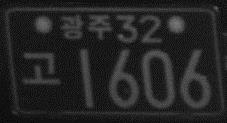0: (140, 49, 175, 108)
1: (77, 46, 97, 110)
2: (139, 13, 162, 44)
3: (115, 13, 138, 42)
6: (178, 48, 212, 110), (106, 48, 140, 109)
고: (20, 51, 61, 86)
광주_O: (60, 13, 112, 41)
